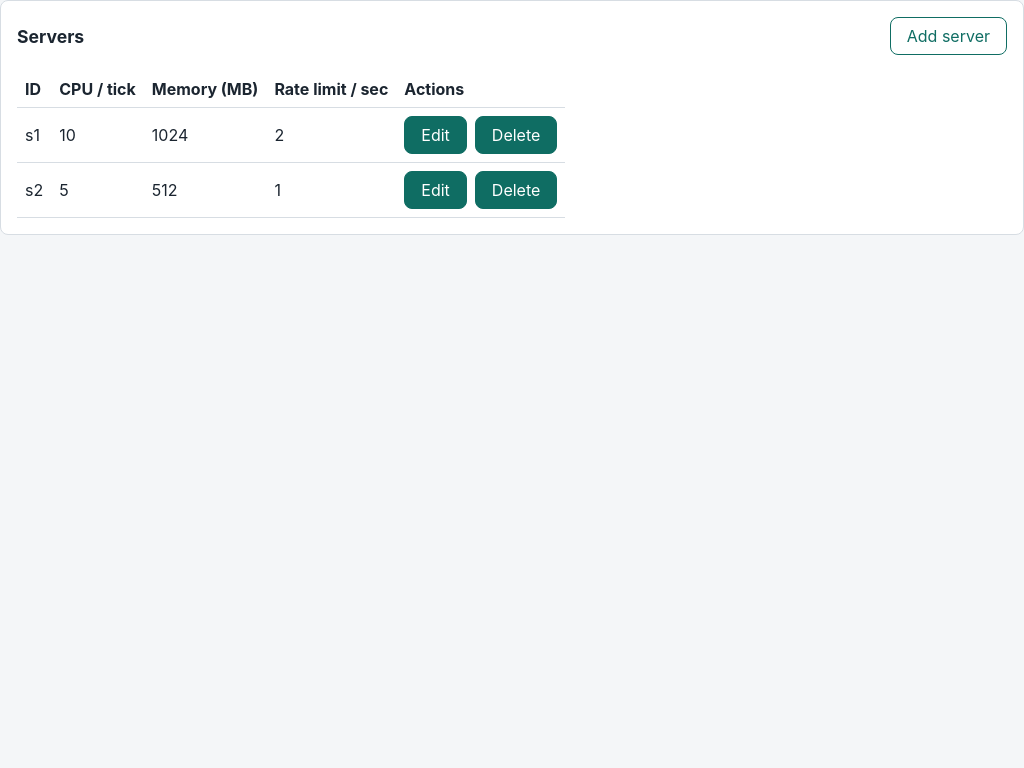
Scenario: ServerList › keeps mutation errors visible
Check: the text "s1" is shown, box [17,108,51,162]
Step 1. Click the button "Add server" → (948, 36), box [890,17,1007,55]
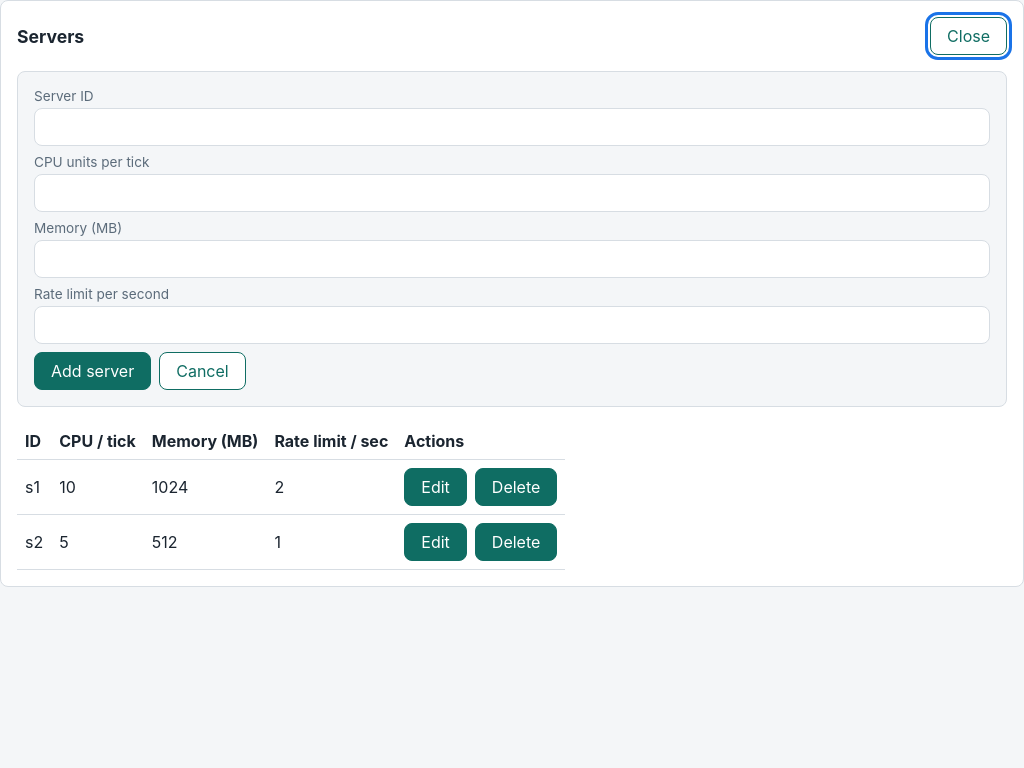
Step 2. Type "s1" into the field labelled "Server ID" → (512, 127), box [34,108,990,146]
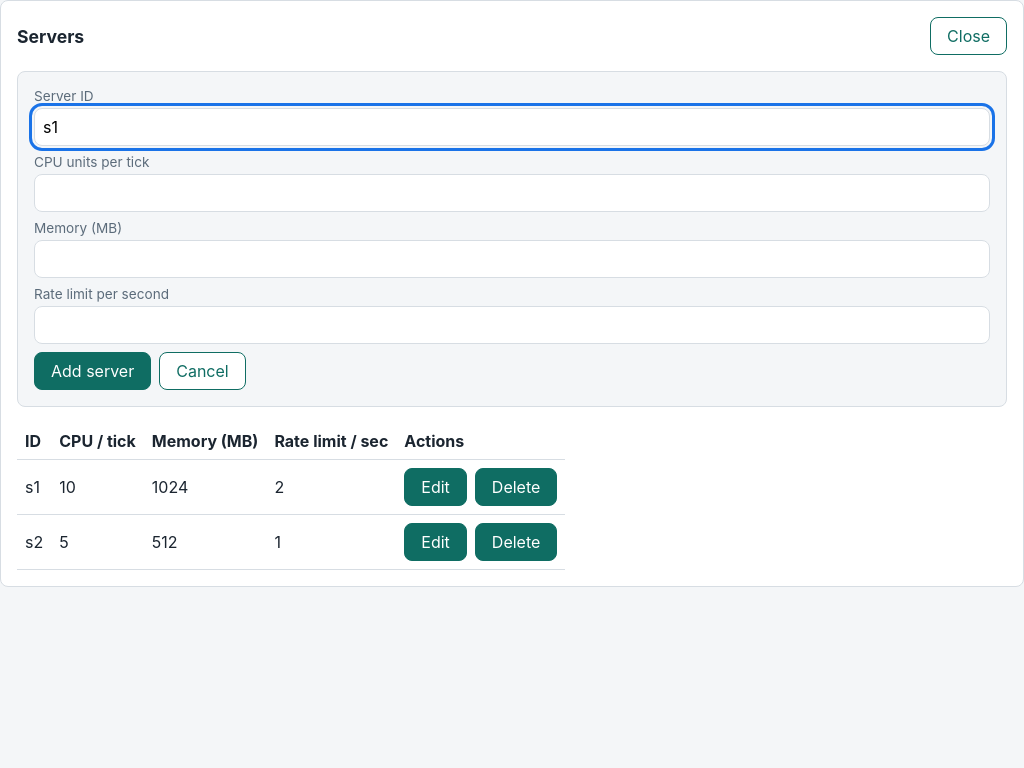
Step 3. Type "1" into the number field labelled "CPU units per tick" → (512, 193), box [34,174,990,212]
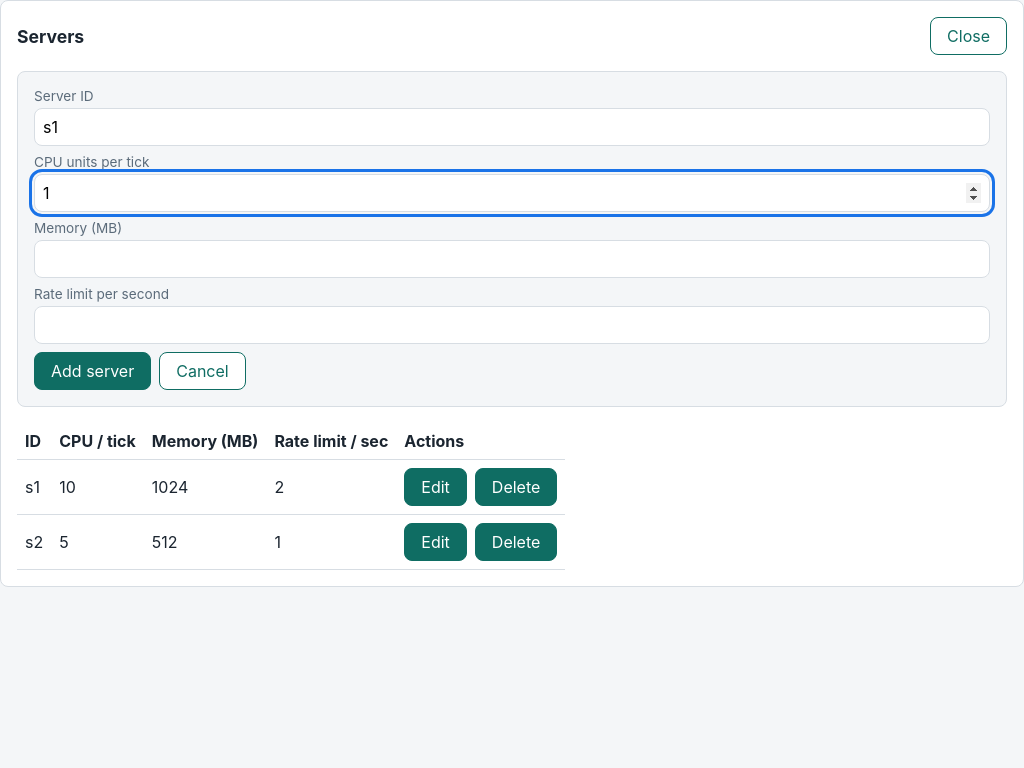
Step 4. Type "1" into the number field labelled "Memory (MB)" → (512, 259), box [34,240,990,278]
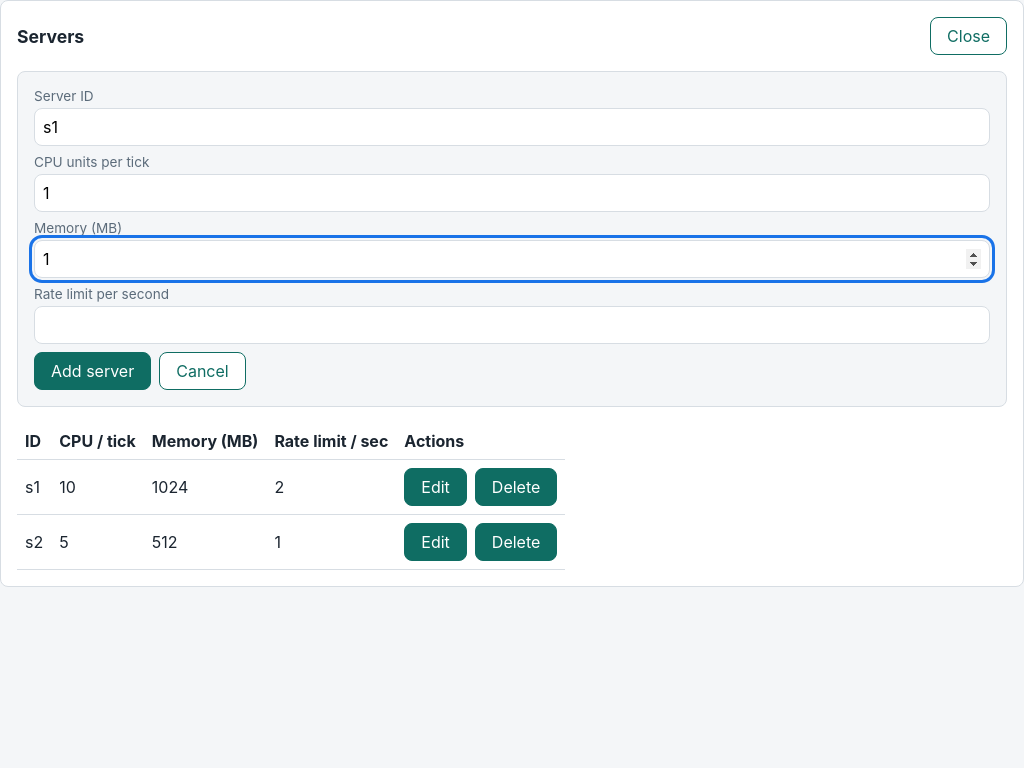
Step 5. Type "1" into the number field labelled "Rate limit per second" → (512, 325), box [34,306,990,344]
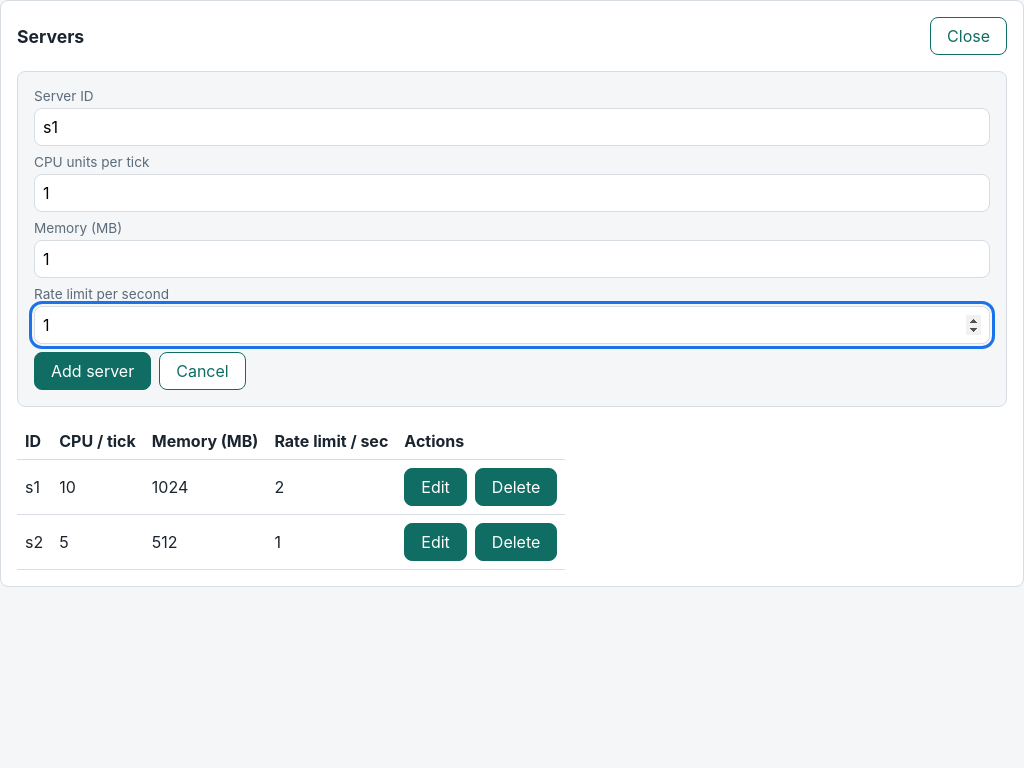
Step 6. Click the button "Add server" → (93, 371), box [34,352,151,390]
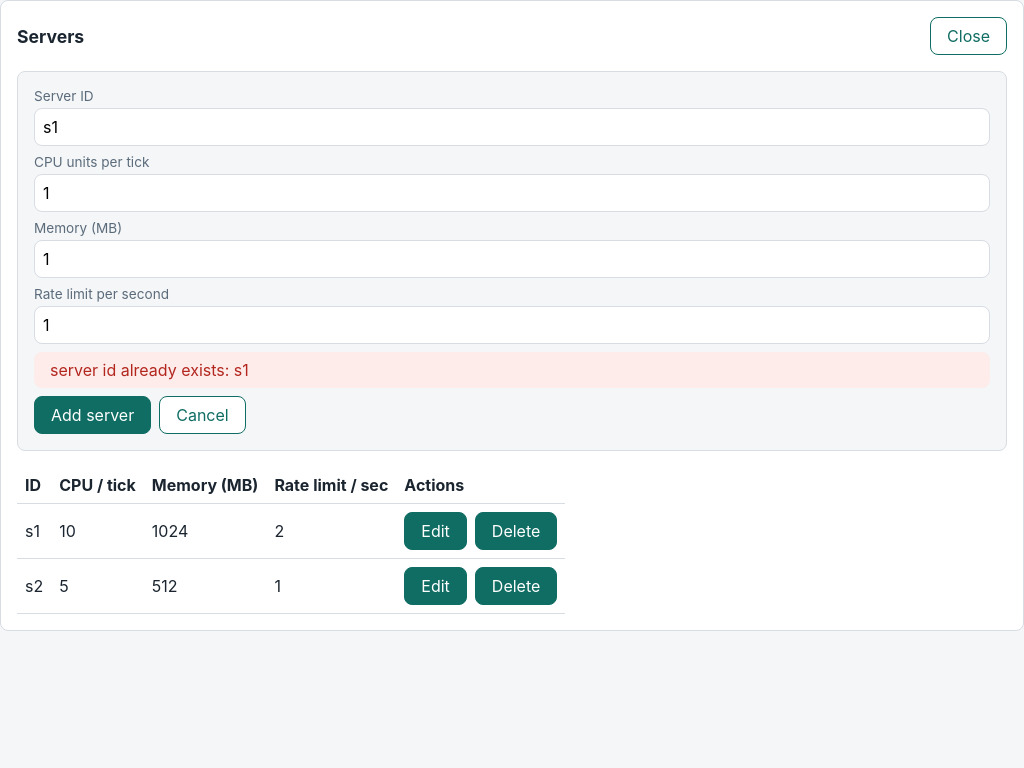
Check: the text "server id already exists: s1" is shown, box [34,352,990,388]
